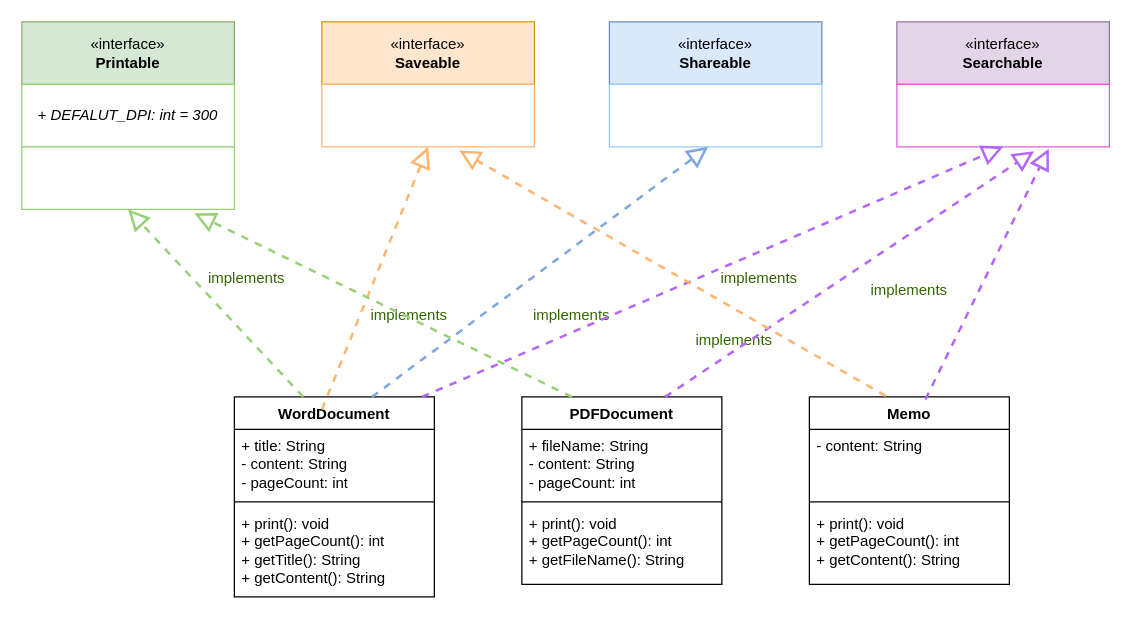
The diagram is 1131 pixels wide and 623 high, and some of its shapes have lost their labels. The centre of each missing label's shape, as x and y in pixels:
"+ print(): void + getPageCount(): int" belongs at (x=127, y=177).
"+ save(): void + getLastSavedTime(): String" belongs at (x=427, y=115).
"+ search(keyword): int + highlight(keyword): void" belongs at (x=1002, y=115).
"+ share(): void + getShareLink(): String" belongs at (x=715, y=115).
